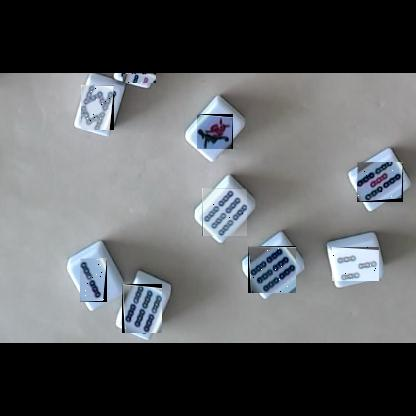1s: (197, 114, 233, 149)
2s: (80, 258, 107, 302)
3s: (332, 247, 379, 281)
5s: (357, 162, 403, 202)
6s: (248, 246, 296, 293), (202, 188, 247, 236), (122, 284, 162, 333)
8s: (81, 85, 114, 130)
9s: (122, 73, 156, 83)
